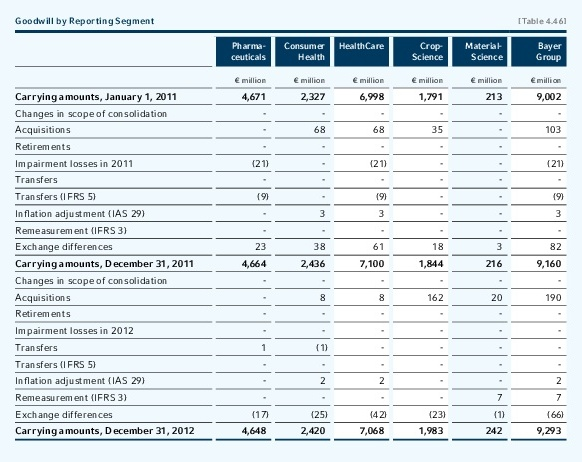table: (0, 0, 582, 462)
